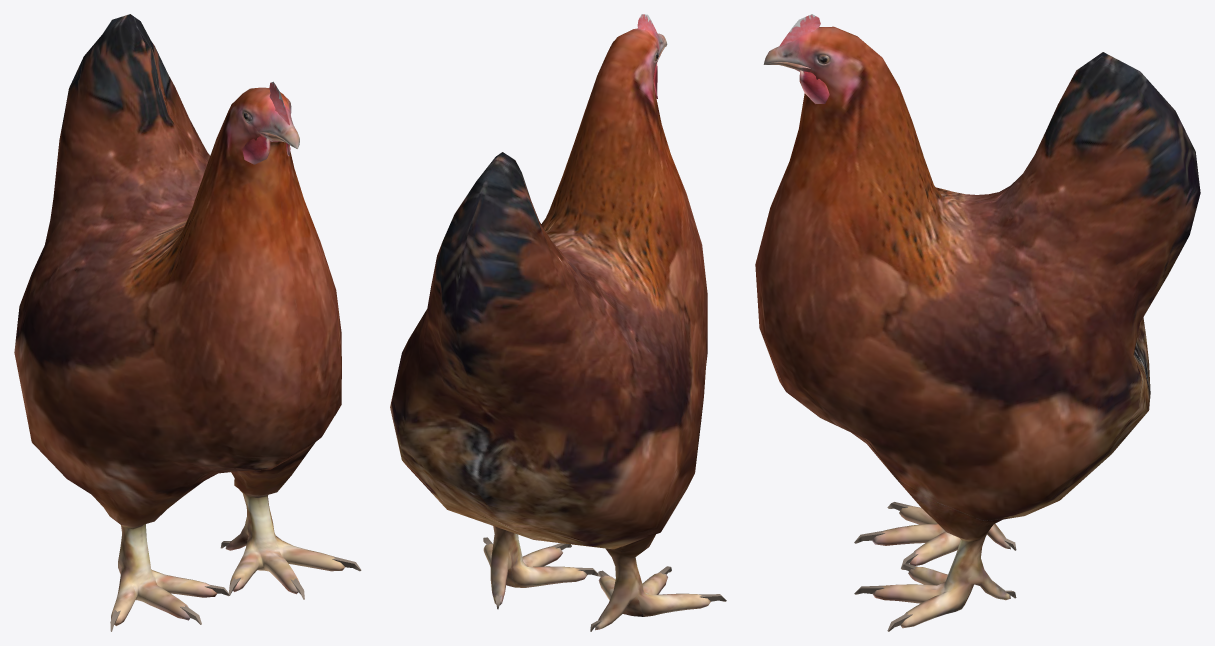
The model's file is chicken.obj.
3 views of the same model, side by side, from view 1: azimuth 30°, elevation 25°; view 2: azimuth 150°, elevation 25°; view 3: azimuth 270°, elevation 25° (orthographic). The views are drawn at different scales.
Visible parts, largest first — view 1: 1; view 2: 1; view 3: 1.
Part boxes in pixels (x1=…): 1: x1=14, y1=14, x2=361, y2=631; 1: x1=390, y1=28, x2=726, y2=631; 1: x1=755, y1=26, x2=1200, y2=631.
Size of the model in its own units: 24.2 by 45.6 by 32.8.
3 materials, 3 textured.
